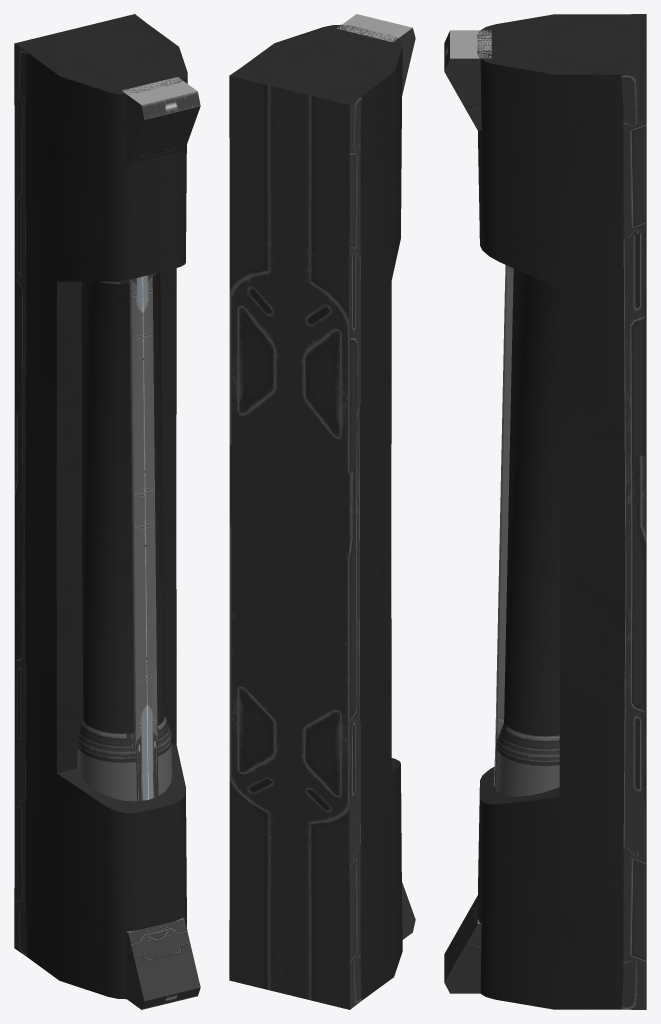
The model's file is Column_Large_Straight.gltf.
3 views of the same model, side by side, from view 1: azimuth 30°, elevation 25°; view 2: azimuth 150°, elevation 25°; view 3: azimuth 270°, elevation 25° (orthographic). The views are drawn at different scales.
Visible parts, largest first — view 1: Column_Large_Straight; view 2: Column_Large_Straight; view 3: Column_Large_Straight.
Part boxes in pixels (<box>): Column_Large_Straight: <box>14,14,200,1009</box>; Column_Large_Straight: <box>229,14,415,1009</box>; Column_Large_Straight: <box>444,14,646,1009</box>.
Bounding box in the file's own units: 1.4 × 10 × 1.96.
Materials: 4 (4 with a texture image).
